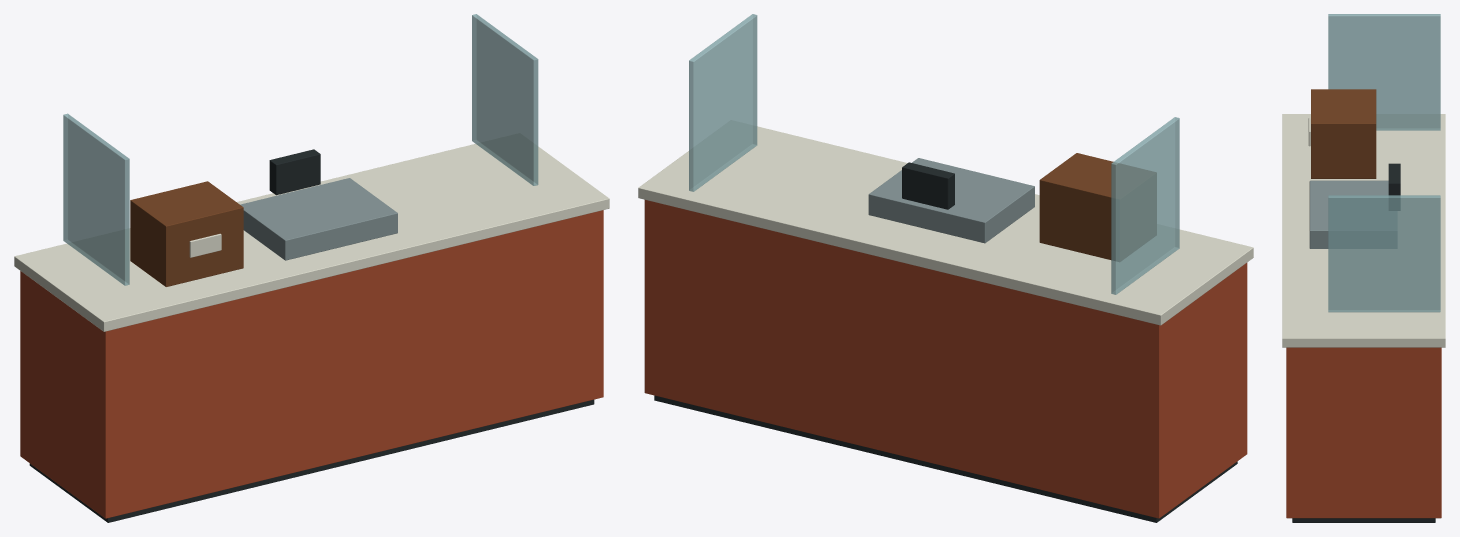
The model's file is post-office-counter.glb.
3 renders of one model, left to right at view 1: azimuth 30°, elevation 25°; view 2: azimuth 150°, elevation 25°; view 3: azimuth 270°, elevation 25°, orthographic. The views are drawn at different scales.
Visible parts, largest first — view 1: Counter_Body, Worktop, Parcel, Divider, Divider.001, Parcel_Scale, Counter_Base, Scale_Display; view 2: Counter_Body, Worktop, Parcel, Divider.001, Divider, Parcel_Scale, Counter_Base, Scale_Display; view 3: Worktop, Counter_Body, Divider.001, Divider, Parcel, Parcel_Scale, Counter_Base, Scale_Display.
Boxes of the visible parts, x1,y1,x2,y2 form: Counter_Body: [20, 210, 603, 518]; Worktop: [14, 133, 609, 331]; Parcel: [130, 181, 243, 286]; Divider: [63, 113, 129, 285]; Divider.001: [472, 14, 538, 185]; Parcel_Scale: [240, 178, 397, 260]; Counter_Base: [29, 399, 594, 522]; Scale_Display: [269, 149, 320, 195]; Counter_Body: [644, 200, 1247, 518]; Worktop: [638, 120, 1253, 325]; Parcel: [1039, 153, 1156, 261]; Divider.001: [689, 14, 757, 191]; Divider: [1111, 117, 1179, 294]; Parcel_Scale: [868, 158, 1034, 243]; Counter_Base: [654, 395, 1237, 522]; Scale_Display: [902, 162, 954, 209]; Worktop: [1282, 114, 1445, 347]; Counter_Body: [1286, 347, 1441, 518]; Divider.001: [1328, 195, 1440, 312]; Divider: [1328, 14, 1440, 130]; Parcel: [1311, 89, 1376, 178]; Parcel_Scale: [1309, 180, 1396, 248]; Counter_Base: [1292, 518, 1435, 522]; Scale_Display: [1388, 163, 1400, 210].
Size of the model in its own units: 2.6 by 1.67 by 0.8.
